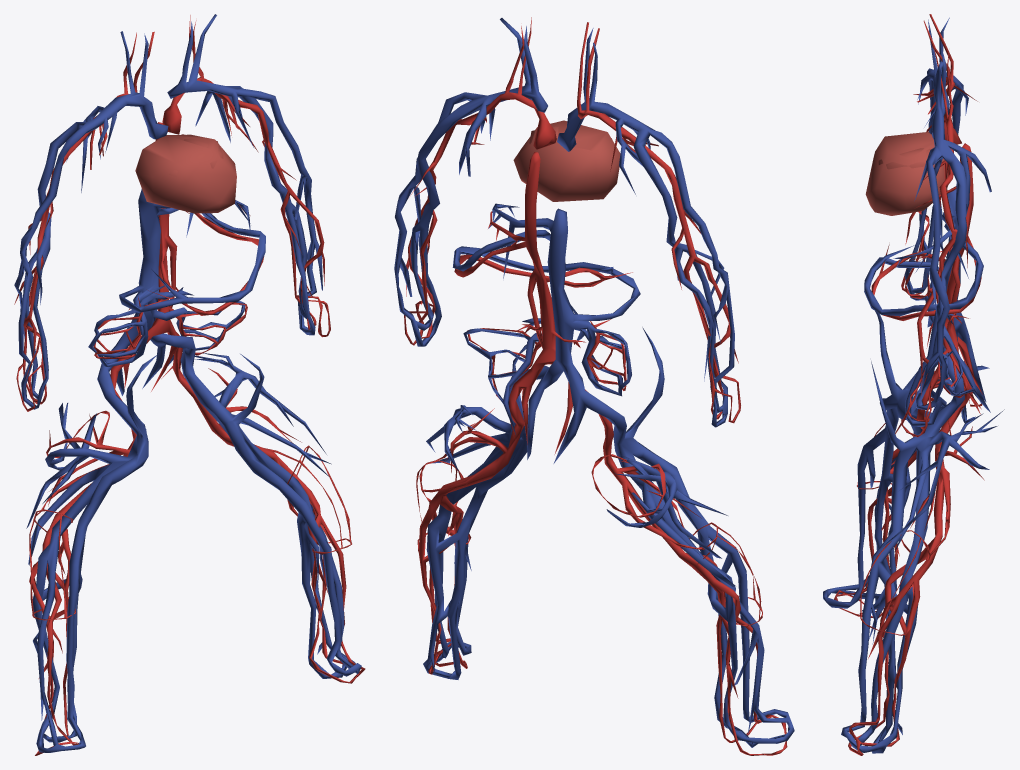
File: pediatric_neonate_female.cardiovascular.LOD3.glb
The picture shows the model from 3 angles, left to right: view 1: azimuth 30°, elevation 25°; view 2: azimuth 150°, elevation 25°; view 3: azimuth 270°, elevation 25°; orthographic projection. The views are drawn at different scales.
Visible parts, largest first — view 1: PEDIATRIC.NEONATE.FEMALE.CARDIOVASCULAR.BLOOD_IN_LARGE_VEINS, PEDIATRIC.NEONATE.FEMALE.CARDIOVASCULAR.BLOOD_IN_LARGE_ARTER, PEDIATRIC.NEONATE.FEMALE.CARDIOVASCULAR.HEART_WALL; view 2: PEDIATRIC.NEONATE.FEMALE.CARDIOVASCULAR.BLOOD_IN_LARGE_VEINS, PEDIATRIC.NEONATE.FEMALE.CARDIOVASCULAR.BLOOD_IN_LARGE_ARTER, PEDIATRIC.NEONATE.FEMALE.CARDIOVASCULAR.HEART_WALL; view 3: PEDIATRIC.NEONATE.FEMALE.CARDIOVASCULAR.BLOOD_IN_LARGE_VEINS, PEDIATRIC.NEONATE.FEMALE.CARDIOVASCULAR.BLOOD_IN_LARGE_ARTER, PEDIATRIC.NEONATE.FEMALE.CARDIOVASCULAR.HEART_WALL, PEDIATRIC.NEONATE.FEMALE.CARDIOVASCULAR.BLOOD_IN_HEART_CHAMB.
Part boxes in pixels (<box>): PEDIATRIC.NEONATE.FEMALE.CARDIOVASCULAR.BLOOD_IN_LARGE_VEINS: <box>14,14,361,752</box>; PEDIATRIC.NEONATE.FEMALE.CARDIOVASCULAR.BLOOD_IN_LARGE_ARTER: <box>14,15,365,755</box>; PEDIATRIC.NEONATE.FEMALE.CARDIOVASCULAR.HEART_WALL: <box>135,134,236,213</box>; PEDIATRIC.NEONATE.FEMALE.CARDIOVASCULAR.BLOOD_IN_LARGE_VEINS: <box>394,18,794,747</box>; PEDIATRIC.NEONATE.FEMALE.CARDIOVASCULAR.BLOOD_IN_LARGE_ARTER: <box>404,17,787,755</box>; PEDIATRIC.NEONATE.FEMALE.CARDIOVASCULAR.HEART_WALL: <box>513,120,620,201</box>; PEDIATRIC.NEONATE.FEMALE.CARDIOVASCULAR.BLOOD_IN_LARGE_VEINS: <box>823,17,1004,753</box>; PEDIATRIC.NEONATE.FEMALE.CARDIOVASCULAR.BLOOD_IN_LARGE_ARTER: <box>834,14,984,755</box>; PEDIATRIC.NEONATE.FEMALE.CARDIOVASCULAR.HEART_WALL: <box>865,132,948,215</box>; PEDIATRIC.NEONATE.FEMALE.CARDIOVASCULAR.BLOOD_IN_HEART_CHAMB: <box>878,148,931,169</box>.
Bounding box in the file's own units: 0.1947 × 0.3766 × 0.0951.
